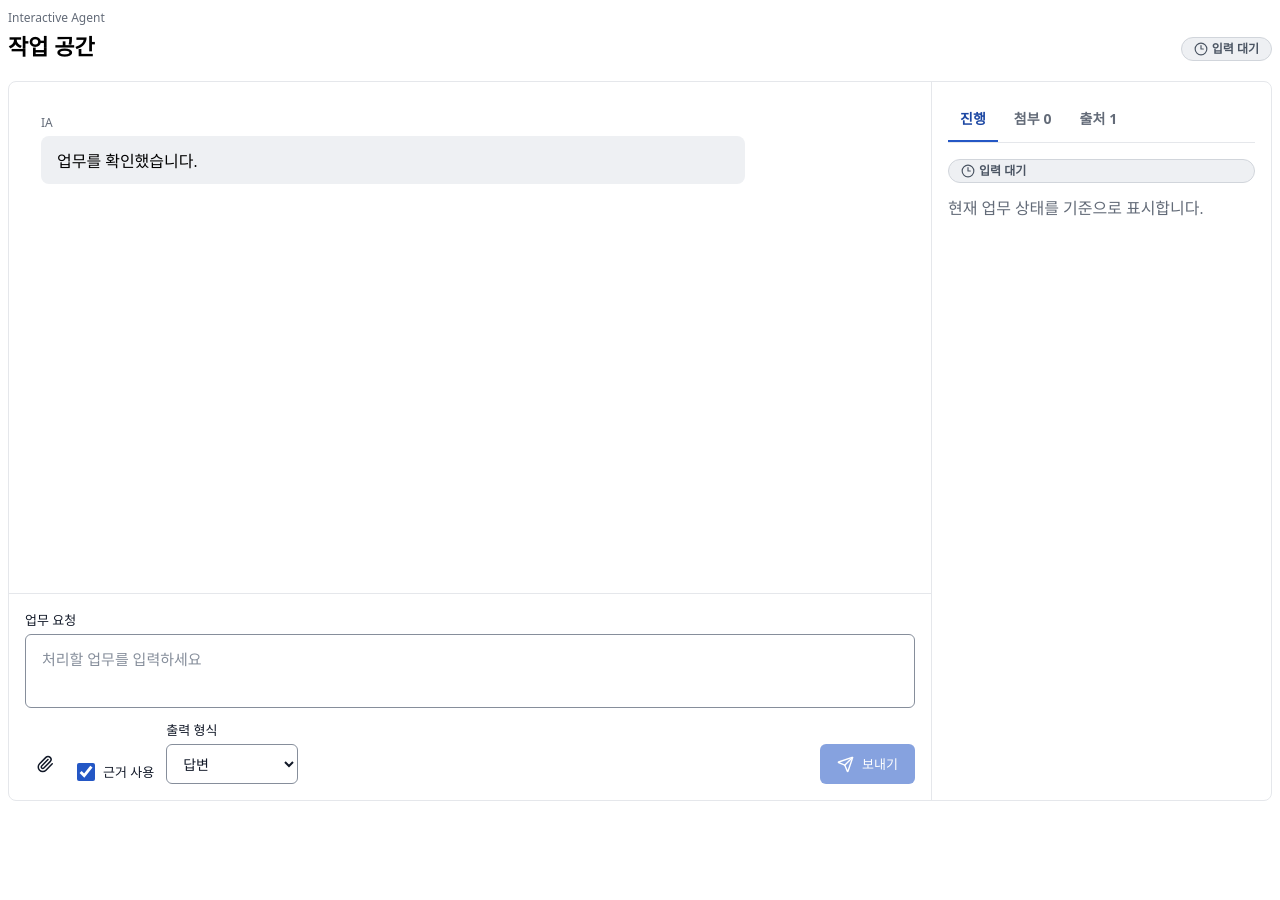
WorkspacePage › renders source-backed conversation, sources, and recent work
The width and height of the screenshot is (1280, 900).
expect the text "업무를 확인했습니다." is shown: met, box [41, 136, 744, 184]
Click the tab with aria-label "출처 1건". click: point(1098, 120)
box: [1068, 98, 1129, 142]
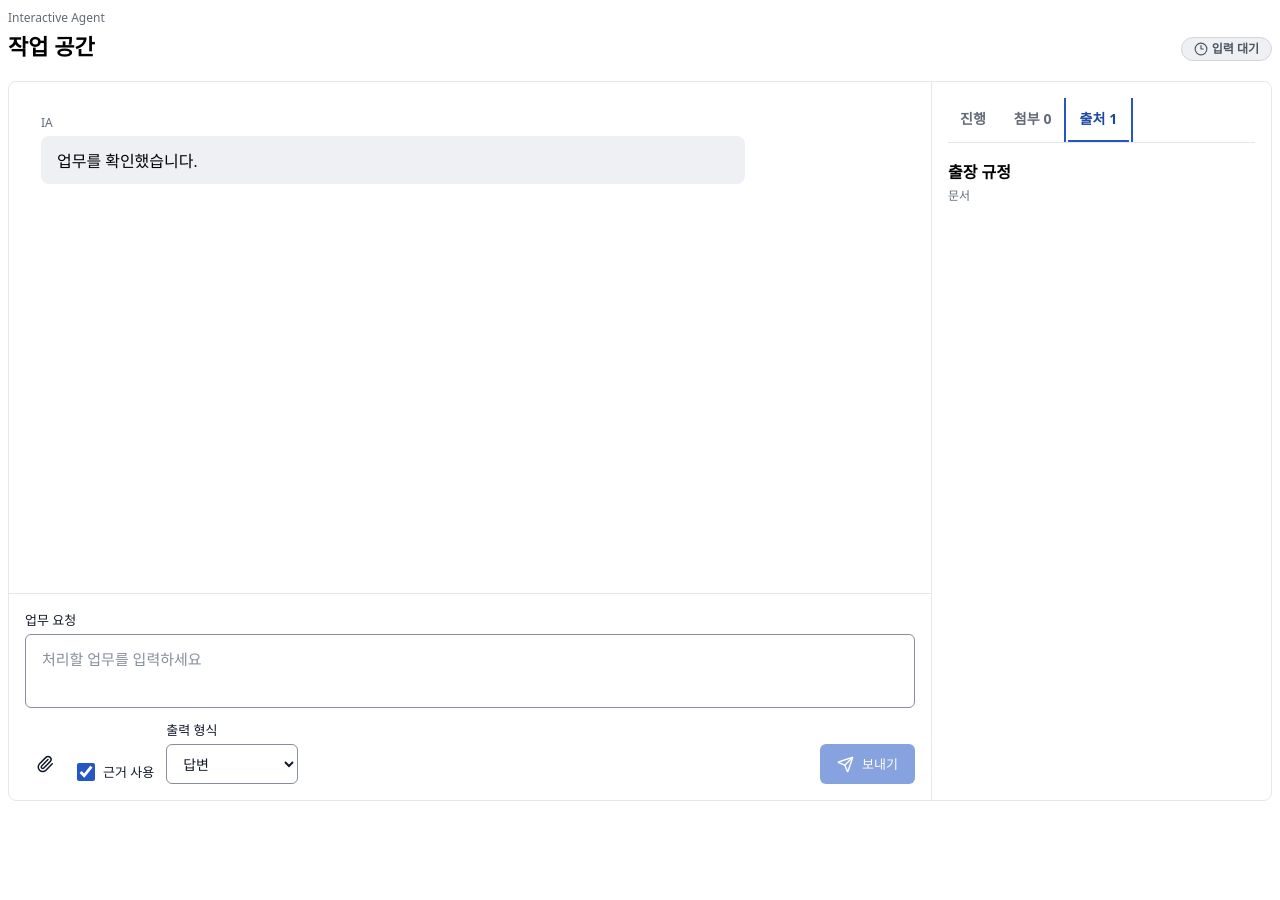
expect the text "출장 규정" is shown: met, box [948, 164, 1011, 181]
